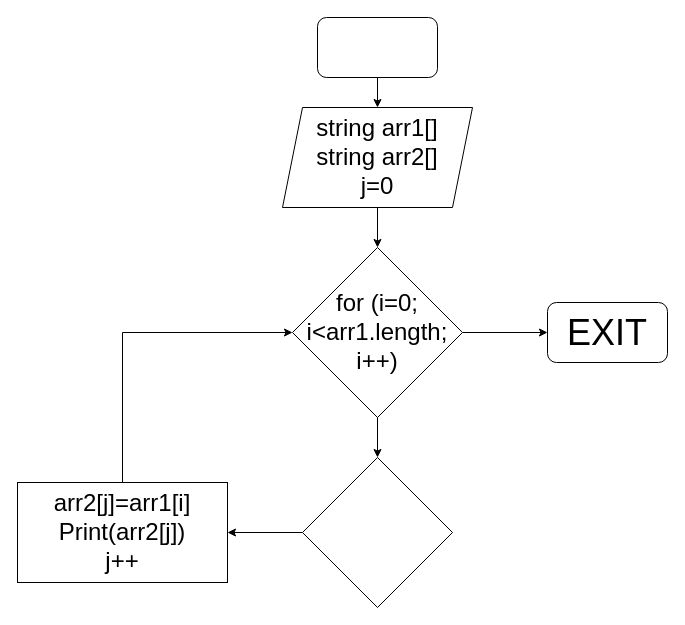
Some shapes in this 685 by 625 pixel diagram are drawn without their labels. Each missing label, with the centre of its shape:
Begin: point 377,47
if arr1[i] < 3: point 377,532
